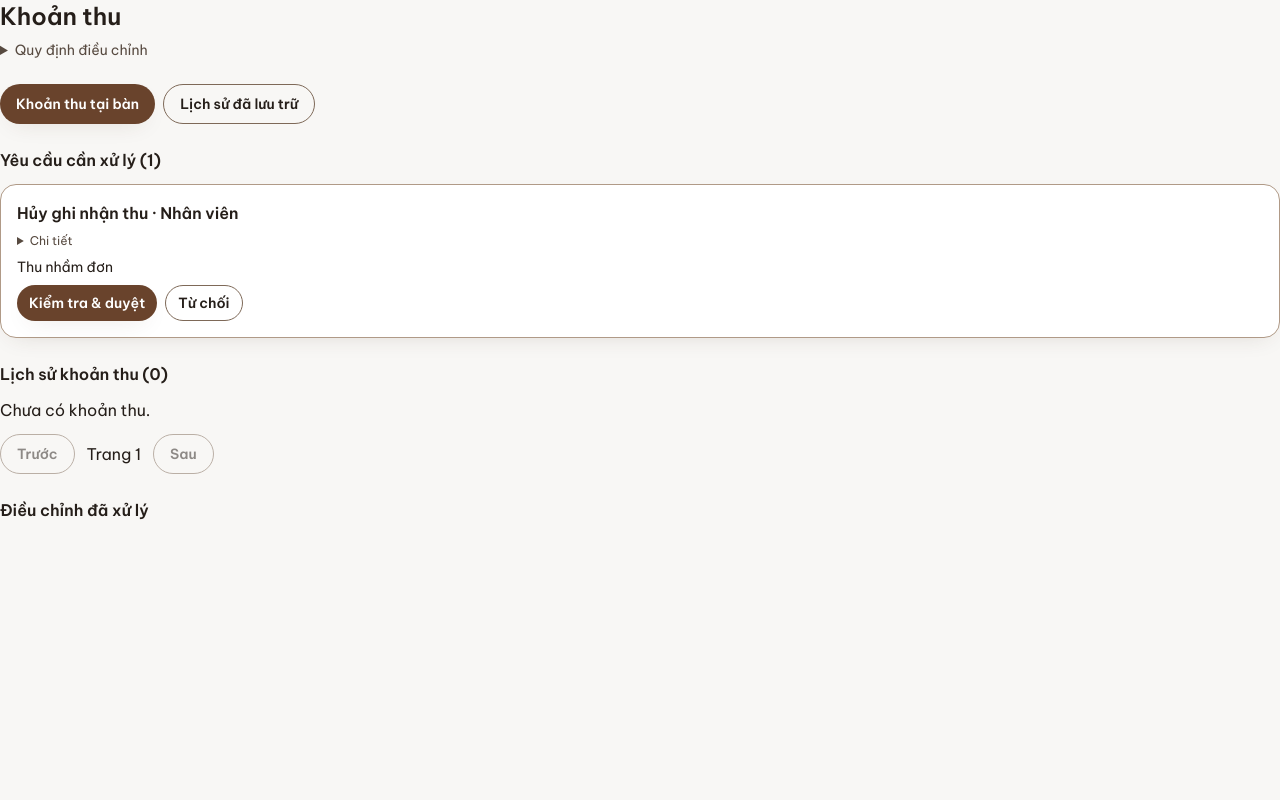
accounts, toppings and compact receipts › still requires an admin review before applying a staff request
Later steps or results of the test are not shown.
Click the button "Kiểm tra & duyệt": (87, 303) [17, 285, 157, 321]
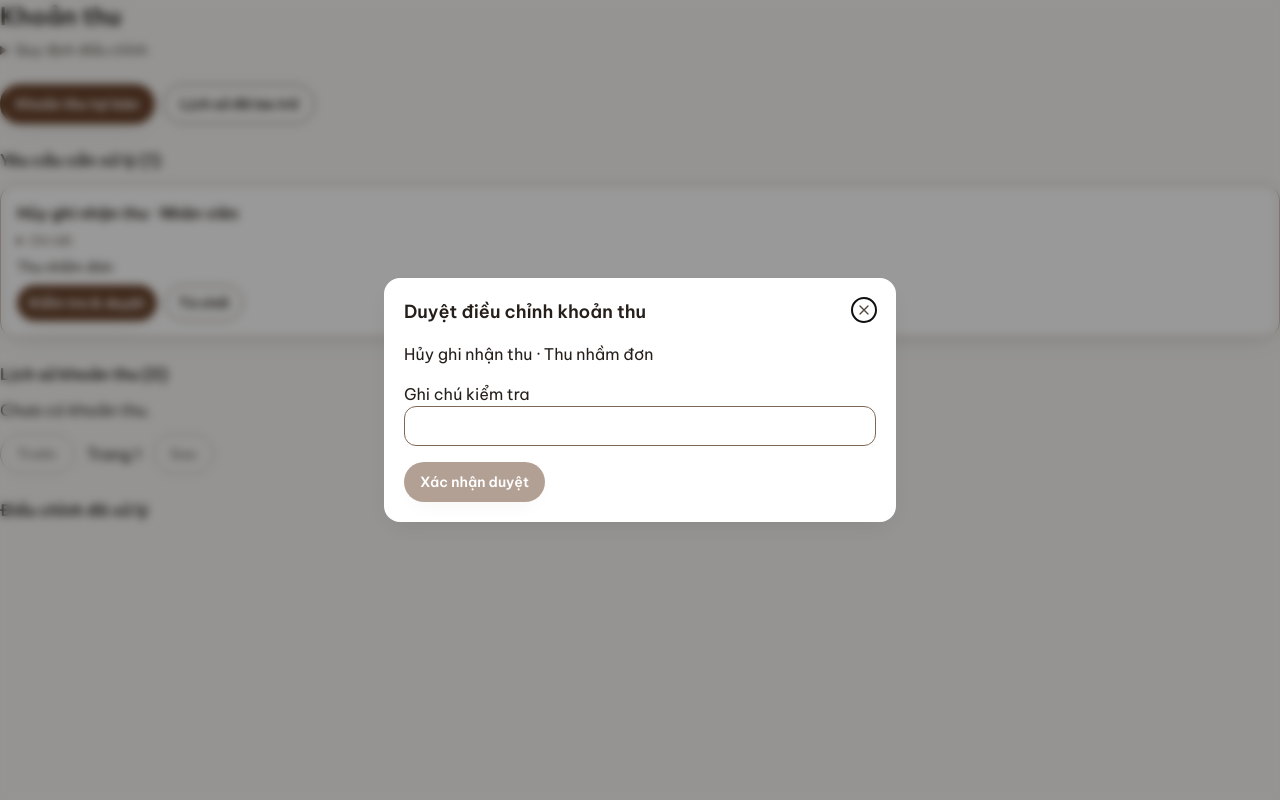
Check: the dialog is shown, box [384, 278, 896, 522]
